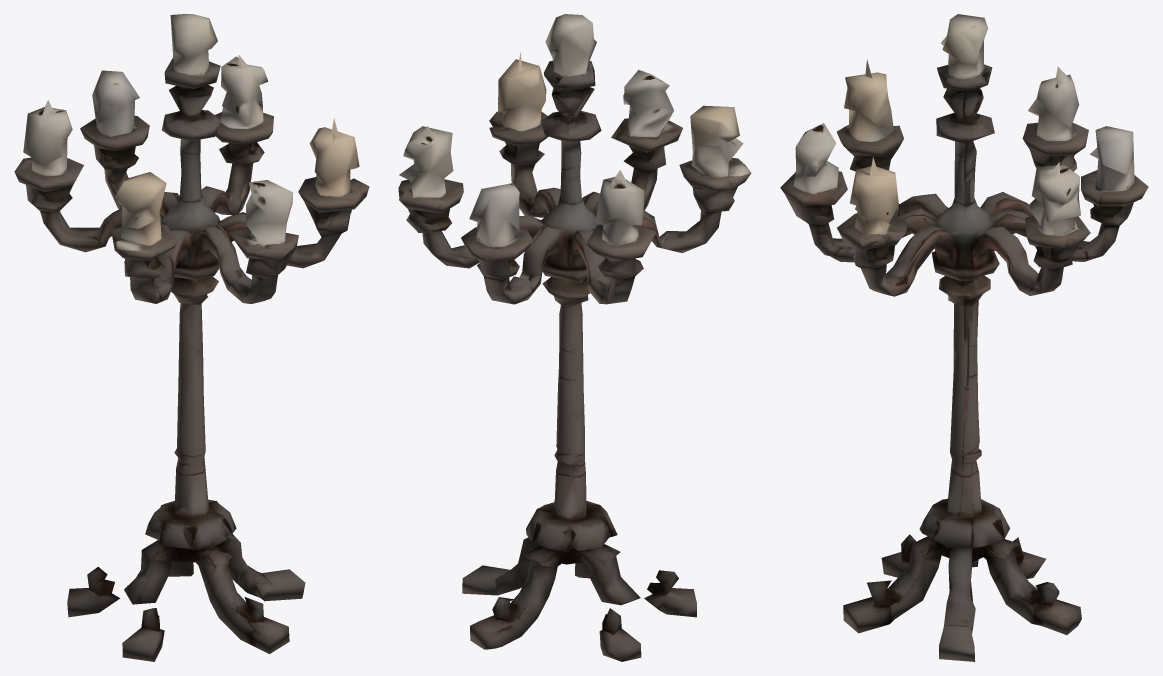
File: candelabra.glb
3 renders of one model, left to right at view 1: azimuth 30°, elevation 25°; view 2: azimuth 150°, elevation 25°; view 3: azimuth 270°, elevation 25°, orthographic.
Parts seen in each view (by area): view 1: tripo_node_1f50dbf7-28ce-47b4-bb89-48b939216343; view 2: tripo_node_1f50dbf7-28ce-47b4-bb89-48b939216343; view 3: tripo_node_1f50dbf7-28ce-47b4-bb89-48b939216343.
Part boxes in pixels (x1,y1,x2,y2): tripo_node_1f50dbf7-28ce-47b4-bb89-48b939216343: (14,14,369,661); tripo_node_1f50dbf7-28ce-47b4-bb89-48b939216343: (398,14,751,661); tripo_node_1f50dbf7-28ce-47b4-bb89-48b939216343: (780,14,1148,661).
Bounding box in the file's own units: 0.4451 × 1 × 0.5652.
1 material, 1 textured.
